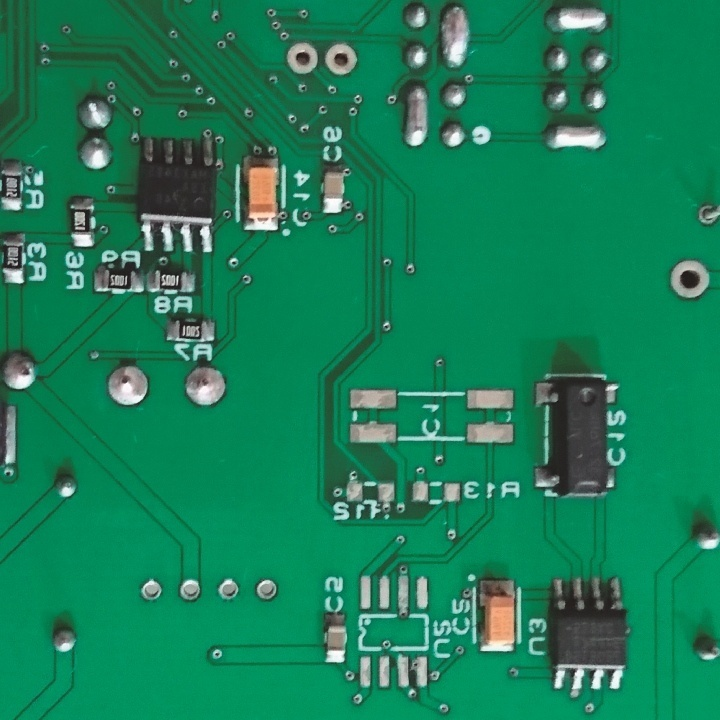F: (104, 360, 149, 411), (184, 363, 228, 412), (665, 257, 713, 300), (321, 40, 363, 80), (285, 38, 319, 79), (252, 575, 281, 606), (177, 575, 207, 604), (137, 576, 166, 604), (696, 199, 720, 231), (213, 574, 239, 603)
P: (539, 119, 612, 157), (437, 1, 473, 75), (541, 3, 616, 35), (402, 79, 429, 152)
